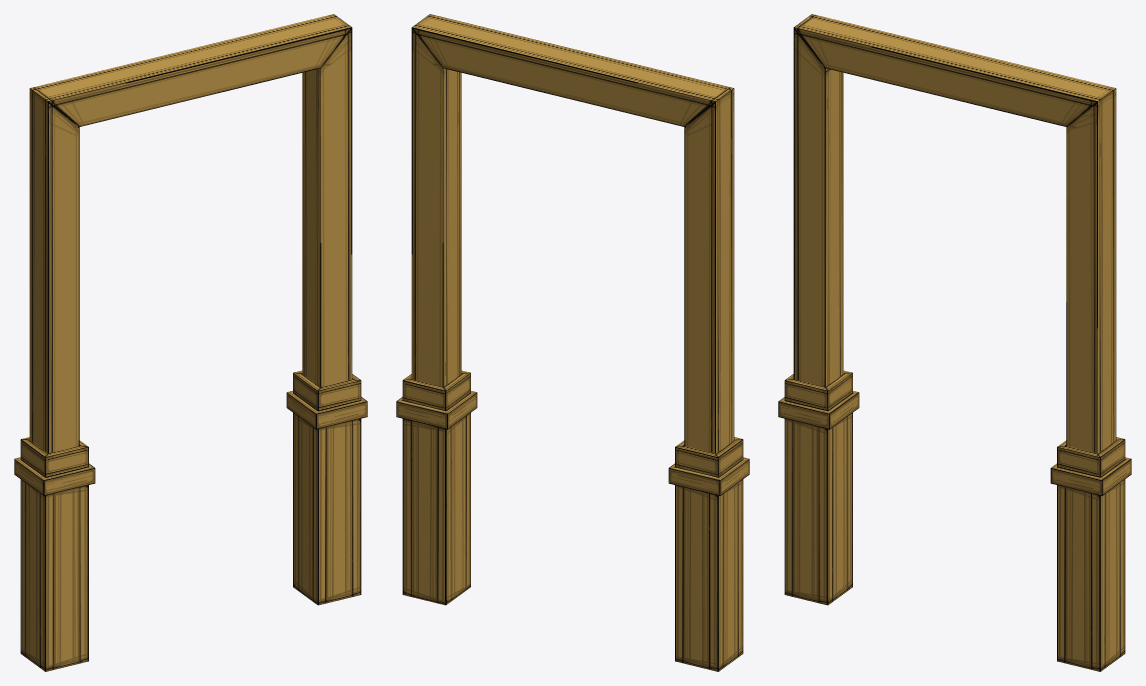
Rendered from doorframe.fbx.
3 views of the same model, side by side, from view 1: azimuth 30°, elevation 25°; view 2: azimuth 150°, elevation 25°; view 3: azimuth 330°, elevation 25° (orthographic).
Visible parts, largest first — view 1: Plane; view 2: Plane; view 3: Plane.
Part boxes in pixels (<box>): Plane: <box>14,14,367,671</box>; Plane: <box>396,14,749,671</box>; Plane: <box>778,14,1131,671</box>.
Size of the model in its own units: 120 by 200 by 18.88.
